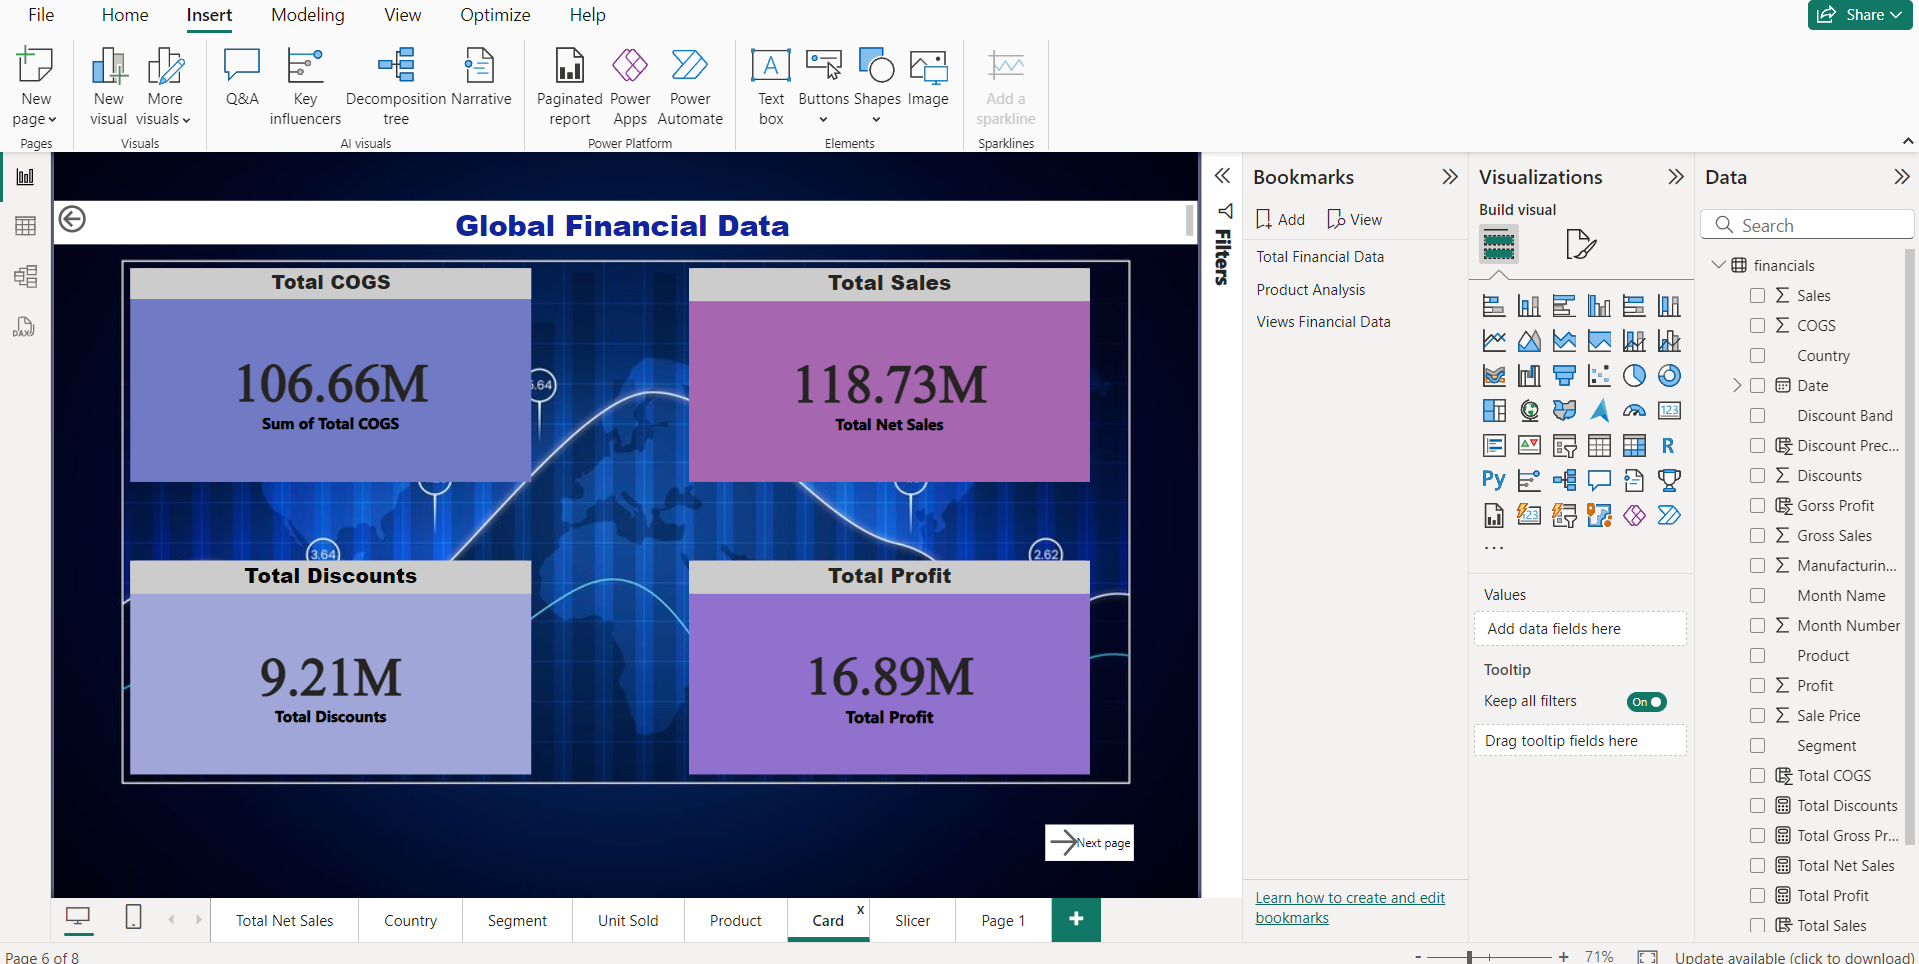

Layout of this report page (visuals, bound fields, positions):
{"tool":"powerbi","page":{"name":"Card","canvas":[1280,835],"ordinal":5},"visuals":[{"type":"textbox","box":[0,54.6,1280.2,49],"z":1},{"type":"card","title":"Total COGS","fields":{"Values":["Sum(financials.Total COGS)"]},"box":[85.3,130.1,449.1,239.3],"z":2},{"type":"card","title":"Total Discounts","fields":{"Values":["financials.Total Discounts"]},"box":[85.3,457.5,449.1,239.3],"z":3},{"type":"card","title":"Total Sales","fields":{"Values":["financials.Total Net Sales"]},"box":[710.8,130.1,449.1,239.3],"z":4},{"type":"card","title":"Total Profit","fields":{"Values":["financials.Total Profit"]},"box":[710.8,457.5,449.1,239.3],"z":5},{"type":"actionButton","box":[1109.5,752.7,99.3,40.6],"z":6},{"type":"actionButton","box":[0,54.6,99.3,40.6],"z":7}]}

Visuals, with their boxes on the page's 1280x835 design canvas (x1, y1, x2, y2). These are canvas units, not pixel positions in the 1919x964 screenshot, which may show the page scaled, cropped or inside an application window:
textbox: [0,55,1280,104]
"Total COGS" card: [85,130,534,369]
"Total Discounts" card: [85,458,534,697]
"Total Sales" card: [711,130,1160,369]
"Total Profit" card: [711,458,1160,697]
actionButton: [1110,753,1209,793]
actionButton: [0,55,99,95]
